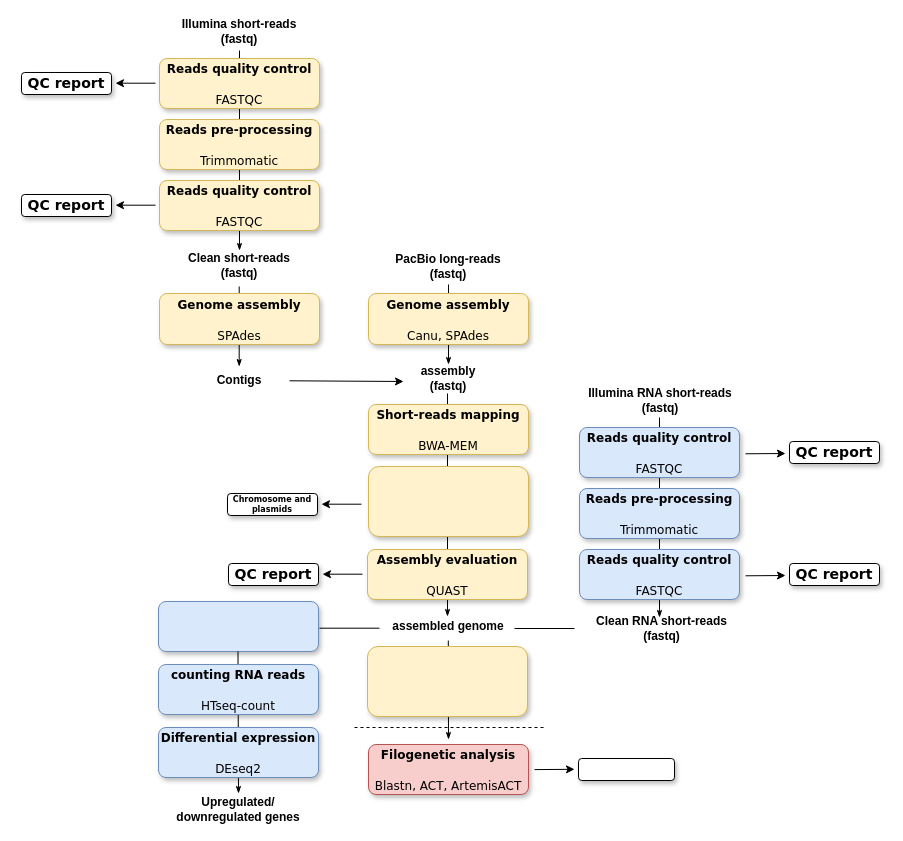
This 903x841 diagram has some shape labels left out. The shapes that lost their labels are listed below. From the top down, each one's centre as x and y in pixels, then its label:
At [449,503]: "Combined genome assembly Pilon".
At [239,627]: "RNA mapping BWA-MEM".
At [448,683]: "Structural and functional annotation Prokka, EGGnog".
At [627,771]: "Predicting drug resistance genes".
